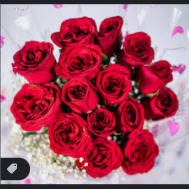RedRose: (9, 81, 58, 133), (12, 39, 55, 83), (51, 114, 93, 159), (79, 138, 123, 180), (119, 132, 160, 175), (52, 43, 102, 78), (92, 65, 133, 107), (140, 84, 183, 122), (48, 17, 98, 49), (122, 28, 158, 65), (134, 60, 174, 93), (60, 76, 97, 111), (100, 15, 126, 58), (116, 96, 145, 132), (86, 104, 116, 137)
